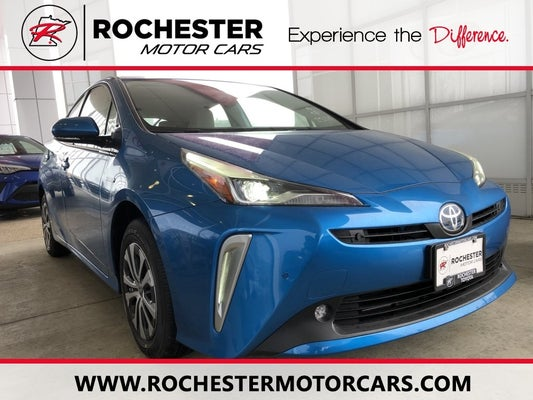Toyota Prius: (39, 77, 518, 360)
